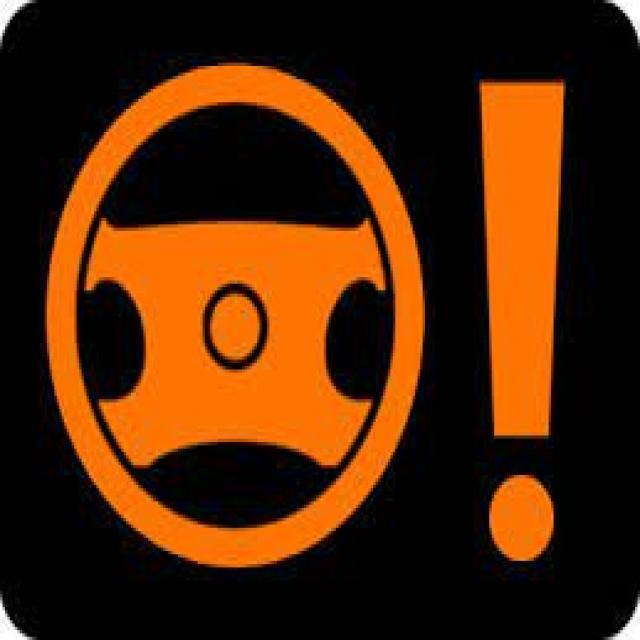Electronic Power Steering: (48, 42, 595, 575)
